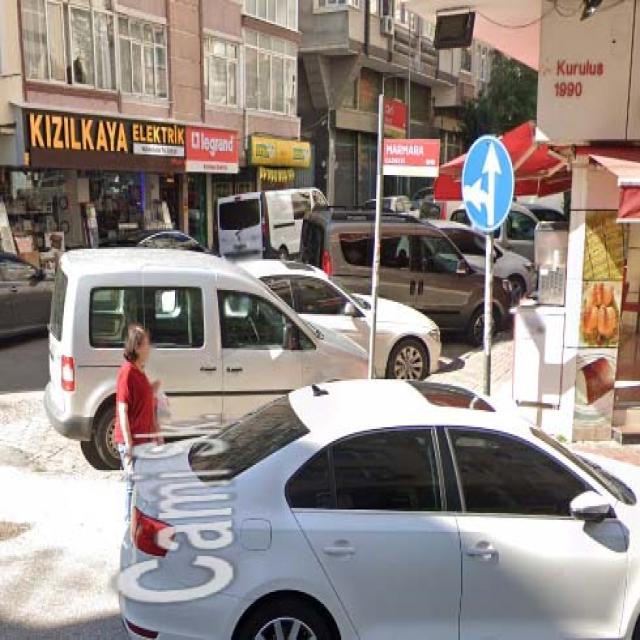ilerisol: (461, 135, 511, 230)
